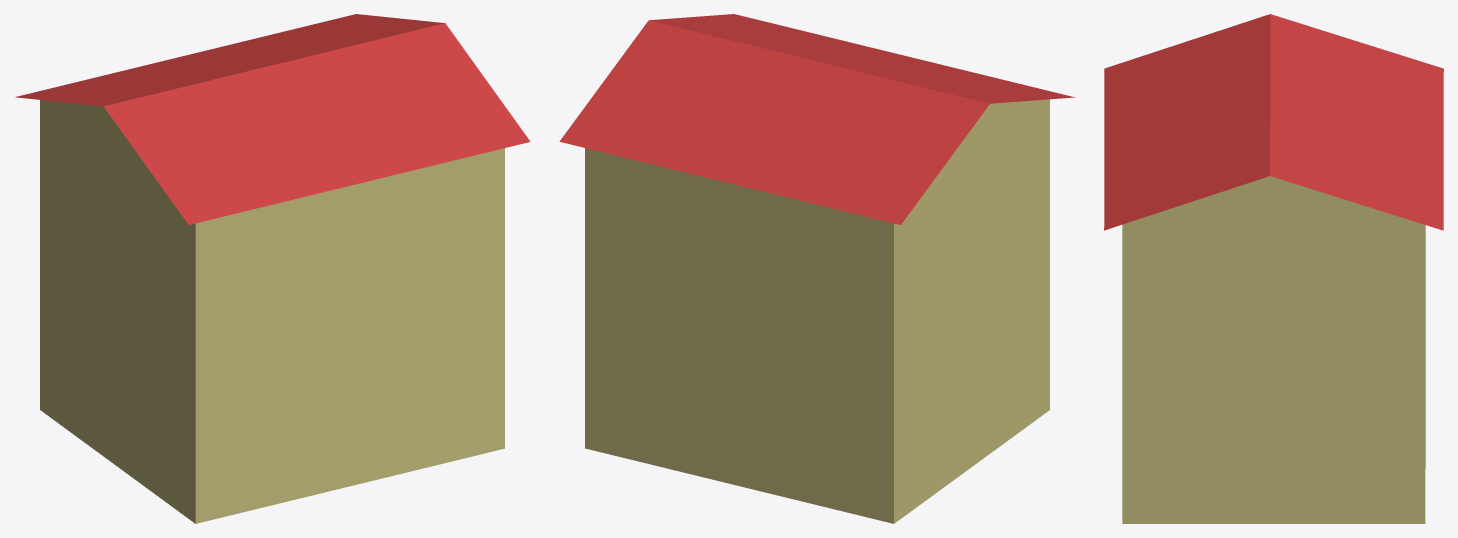
3 renders of one model, left to right at view 1: azimuth 30°, elevation 25°; view 2: azimuth 150°, elevation 25°; view 3: azimuth 270°, elevation 25°, orthographic. The views are drawn at different scales.
Size of the model in its own units: 10.57 by 9.36 by 10.81.
